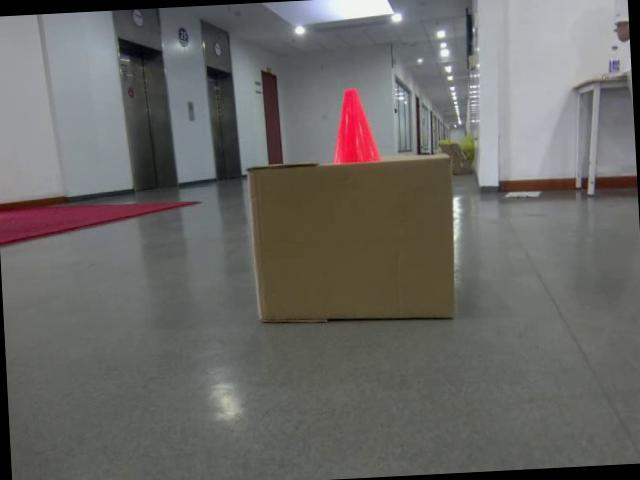orange_barrel: (328, 86, 382, 166)
